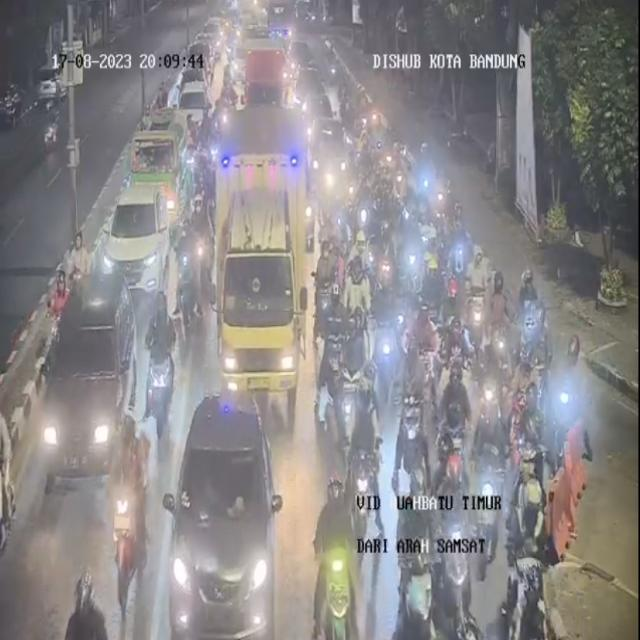cars: (164, 384, 284, 640), (30, 264, 141, 498), (105, 180, 175, 305), (242, 46, 287, 128), (312, 118, 350, 192), (180, 84, 209, 138), (296, 64, 321, 107), (181, 67, 207, 97)
motorcycle: (507, 449, 561, 640), (316, 477, 364, 640), (396, 483, 442, 640), (436, 433, 474, 573), (350, 381, 378, 523), (393, 394, 424, 515), (370, 270, 400, 390), (63, 570, 112, 640), (514, 558, 554, 639), (316, 280, 342, 388), (150, 307, 177, 410), (519, 265, 548, 356), (480, 324, 510, 411), (414, 142, 447, 215), (435, 431, 468, 504), (440, 358, 472, 432), (446, 202, 472, 292), (323, 421, 347, 512), (529, 327, 554, 414), (424, 256, 449, 332), (509, 391, 537, 458), (192, 195, 214, 278), (346, 268, 370, 344), (435, 272, 462, 339), (175, 254, 196, 339), (317, 241, 339, 313), (443, 316, 468, 376), (416, 308, 439, 371), (414, 216, 438, 276), (49, 265, 72, 326), (466, 281, 487, 346), (491, 277, 508, 348), (376, 219, 396, 277), (470, 245, 490, 299), (202, 148, 218, 210), (349, 222, 371, 266), (204, 108, 220, 168), (353, 180, 371, 231), (392, 164, 408, 220), (358, 124, 372, 184), (210, 99, 223, 163), (377, 170, 390, 222), (192, 174, 206, 216), (383, 134, 397, 174), (372, 104, 382, 140)
truck: (214, 163, 306, 426), (224, 86, 308, 201), (134, 107, 194, 225)
